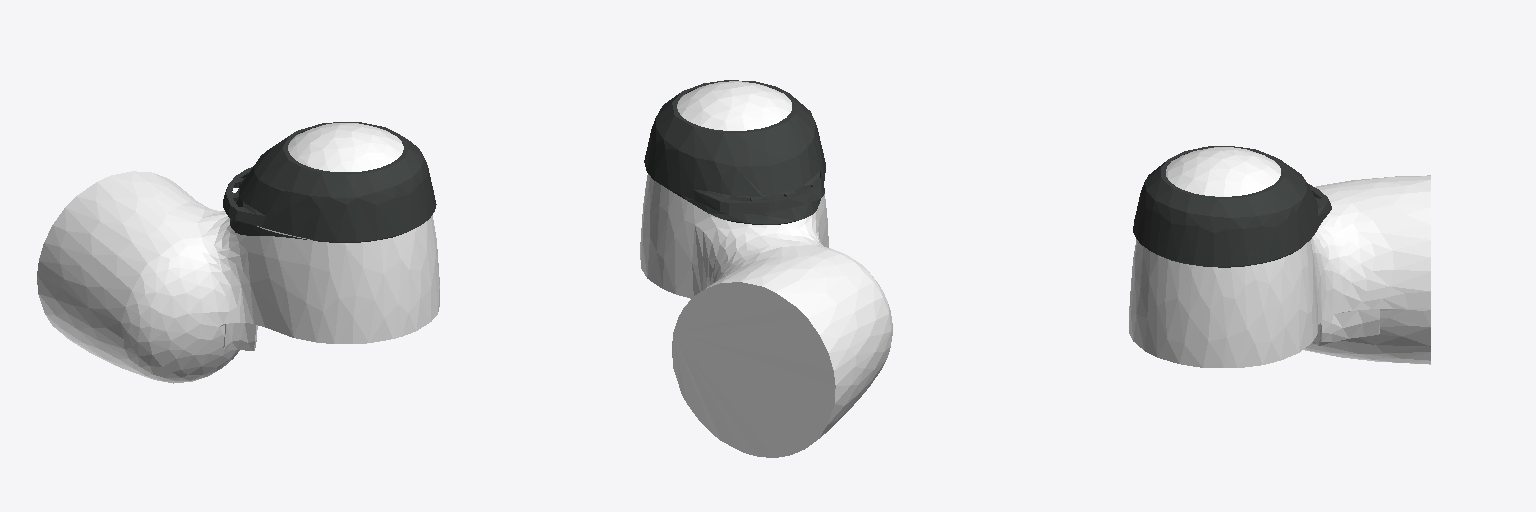
The picture shows the model from 3 angles: view 1: azimuth 30°, elevation 25°; view 2: azimuth 150°, elevation 25°; view 3: azimuth 270°, elevation 25°; orthographic projection.
Size of the model in its own units: 0.1926 by 0.1662 by 0.1761.
1 materials, 1 textured.